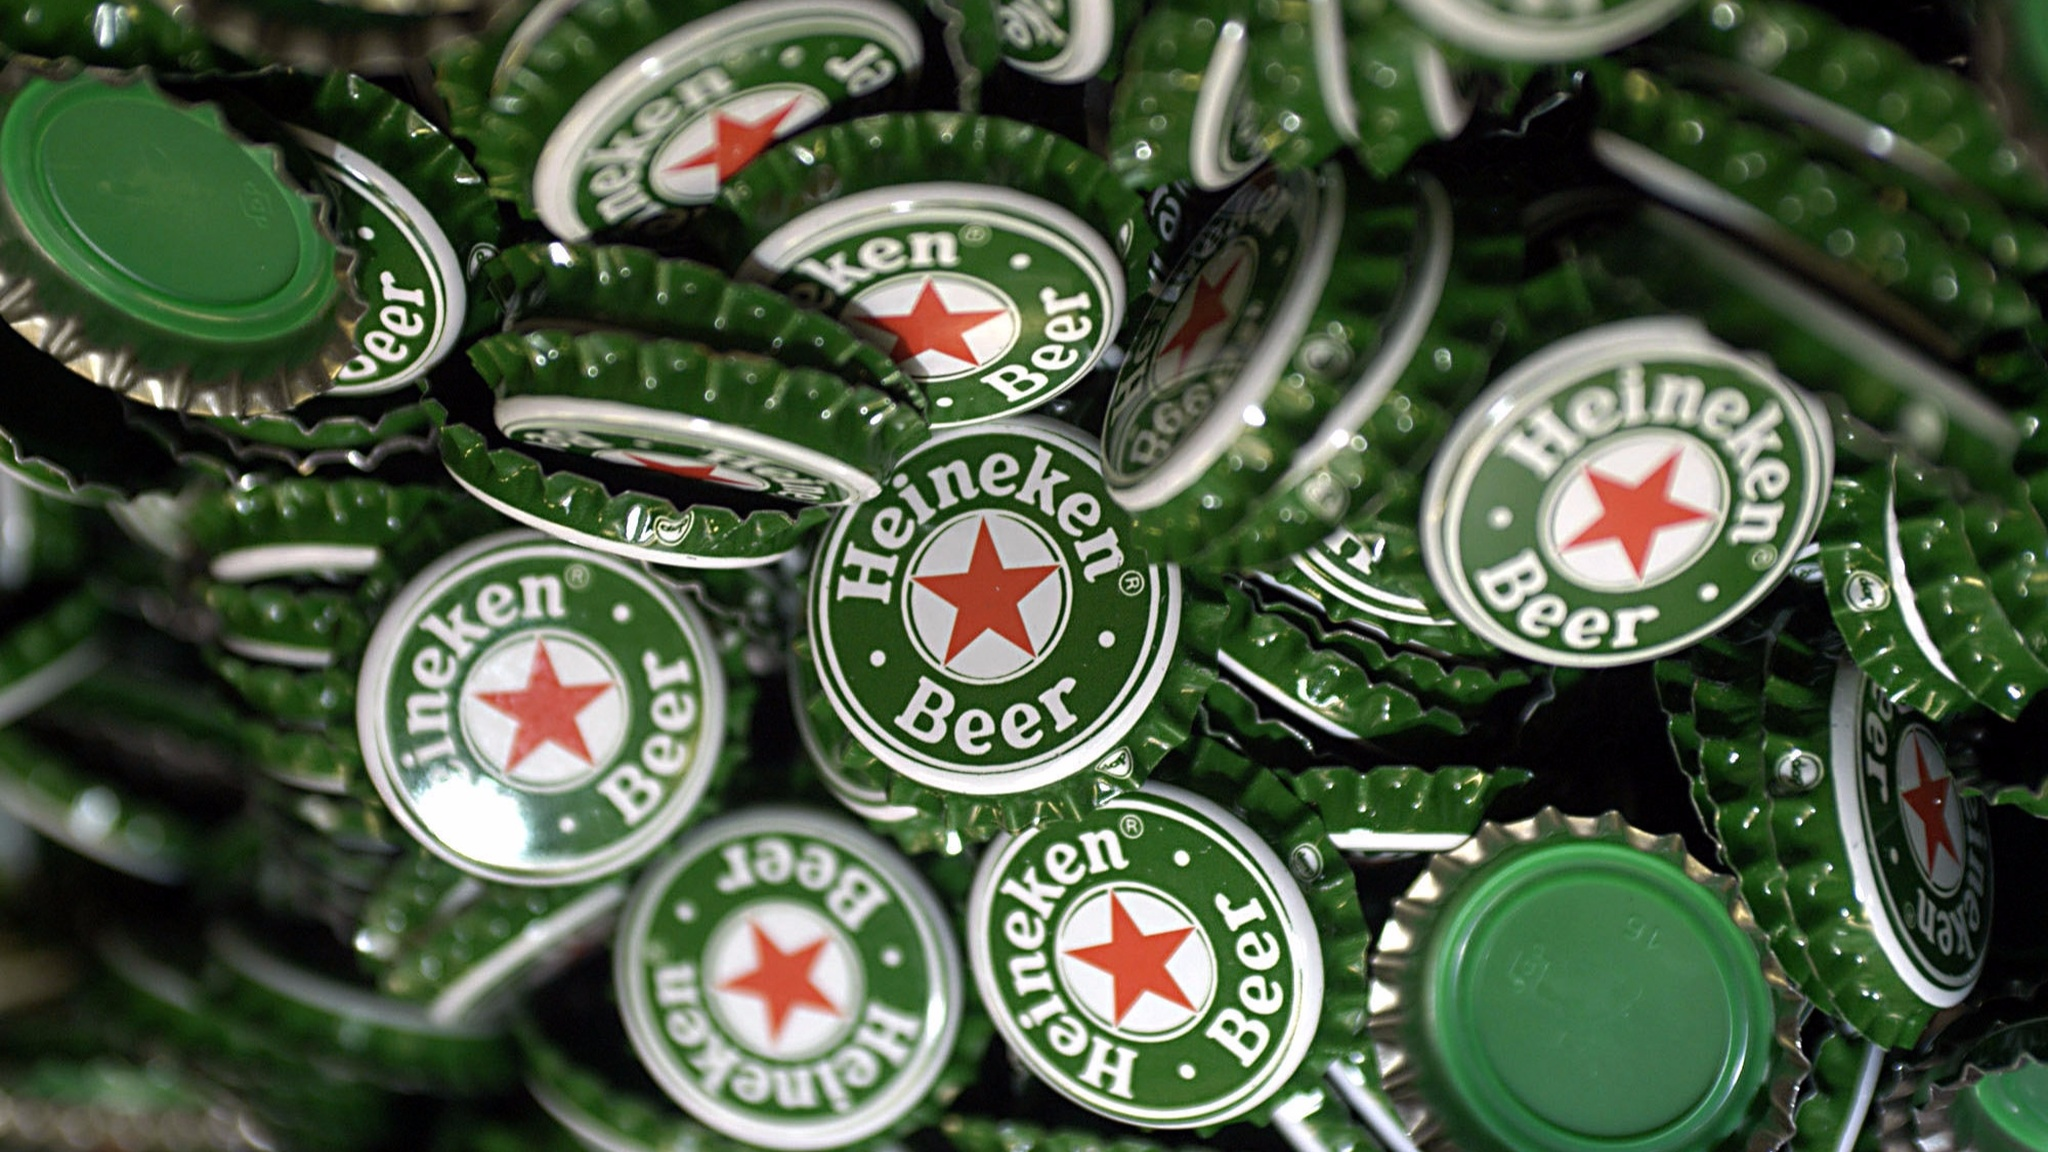heineken: (791, 401, 1180, 810), (1414, 312, 1838, 681), (340, 520, 731, 896), (965, 785, 1328, 1134), (610, 812, 959, 1149)
